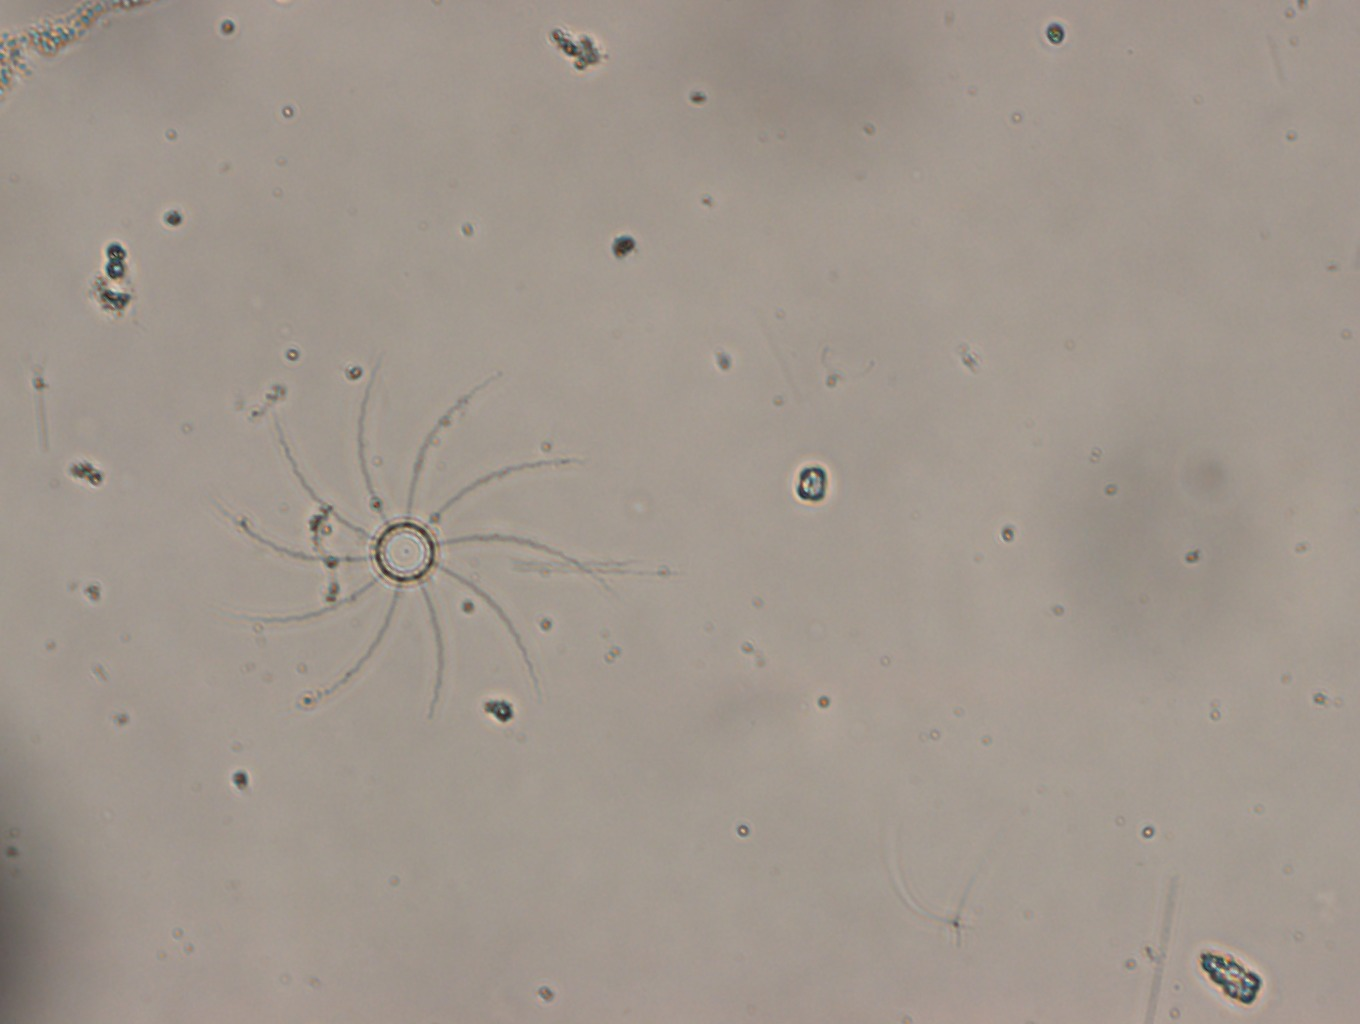bacteriastrum: (215, 353, 611, 737)
